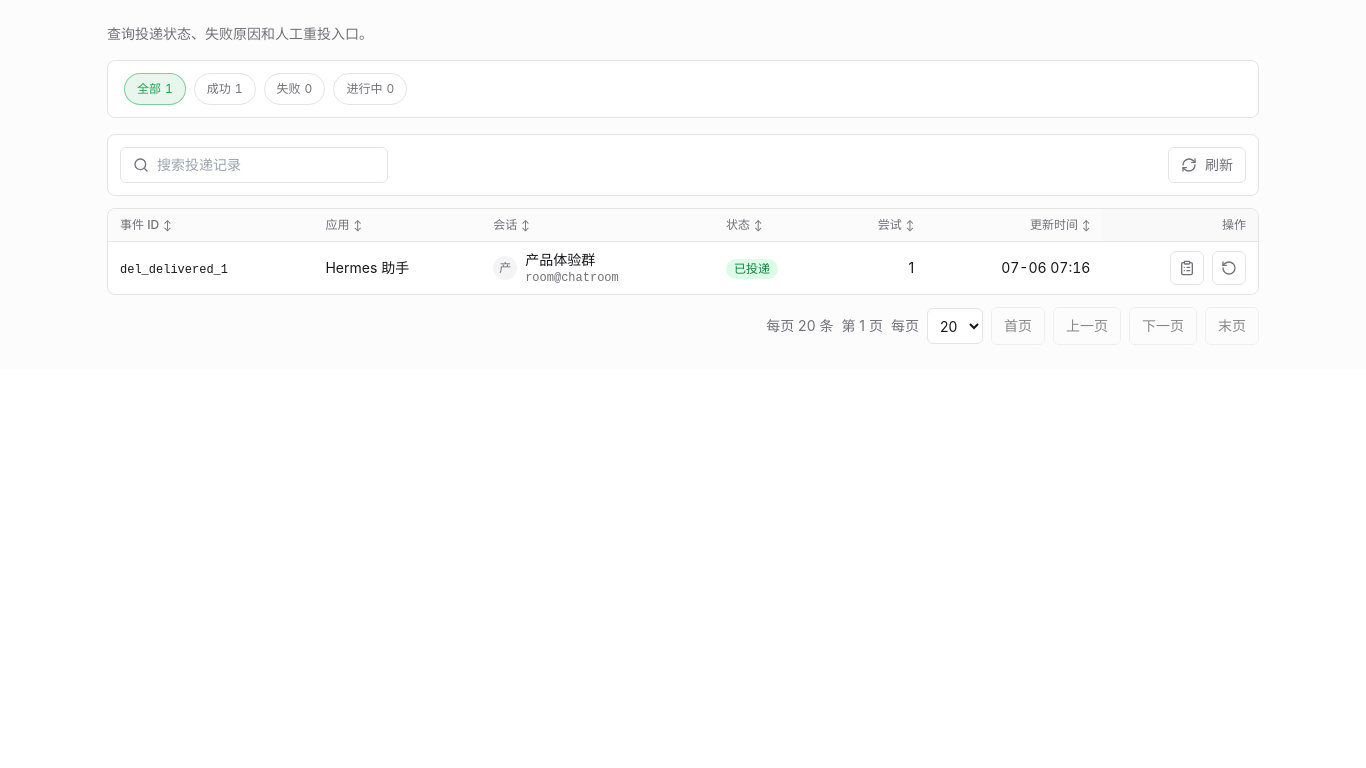
Test: AdminPage › 推送日志支持状态筛选、下一页请求并同步 URL
Expected: the text "del_delivered_1" is shown, [120,263,228,277]
Click the button "失败 0": (294, 89) [264,73,325,105]
(page scrolled)
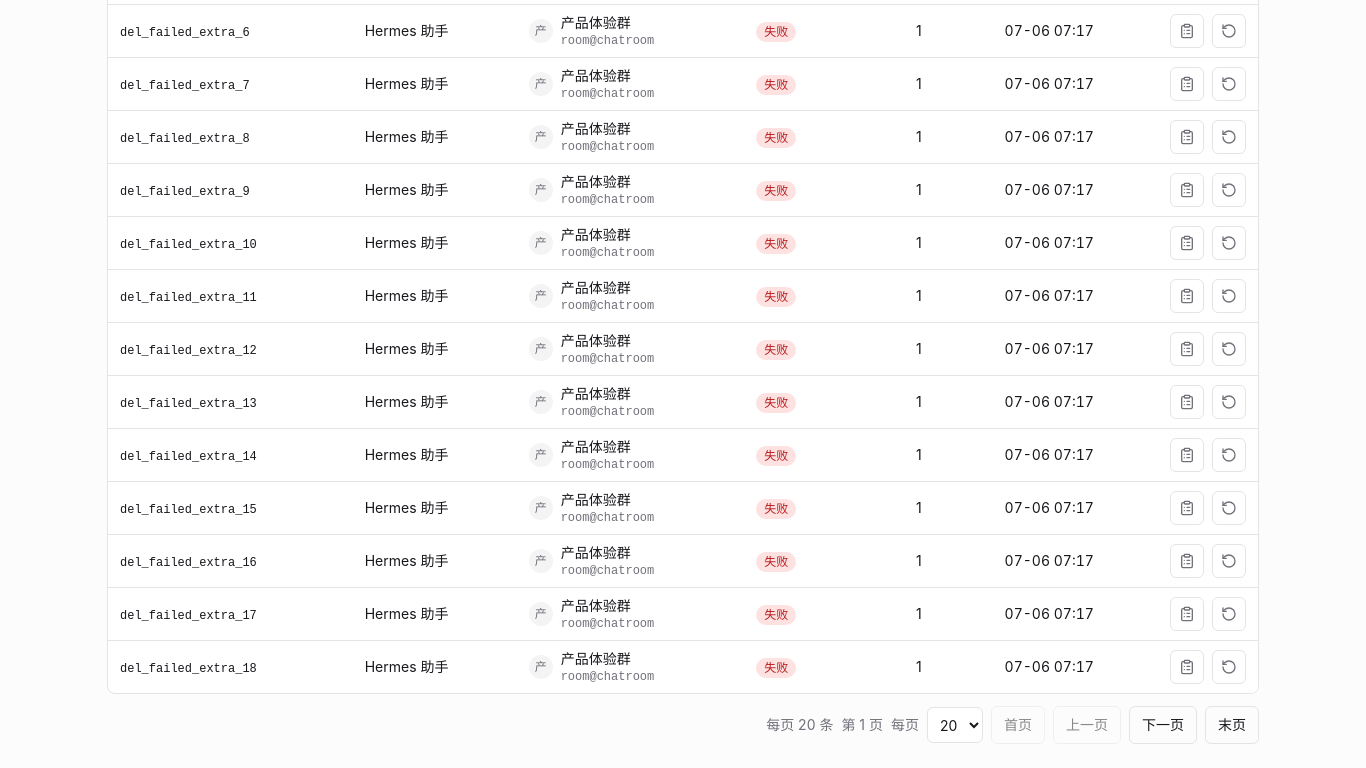
Click the button "下一页": (1163, 725) [1129,706,1197,744]
(page scrolled)
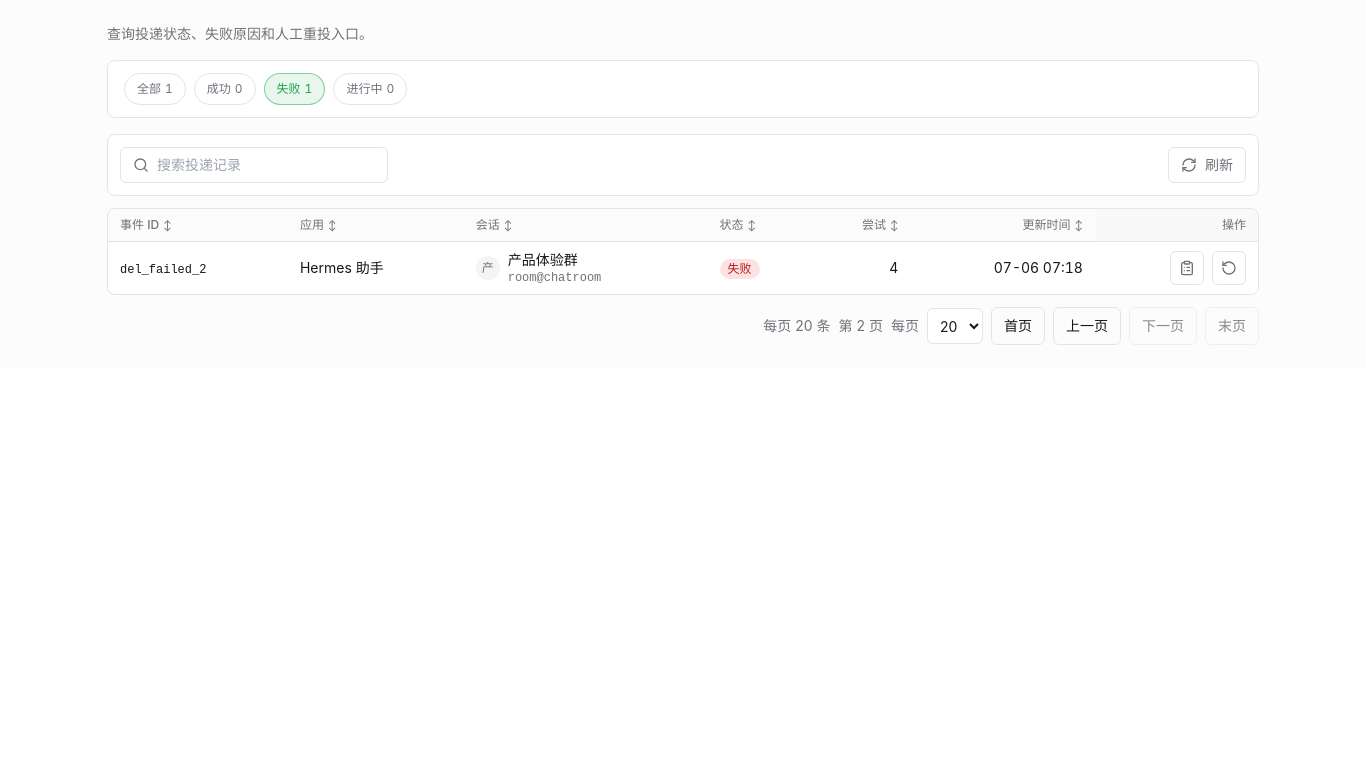
Expected: the text "del_failed_2" is shown, [120,263,206,277]
Select "50" in the dropdown named "每页数量": (955, 326) [927,308,983,344]
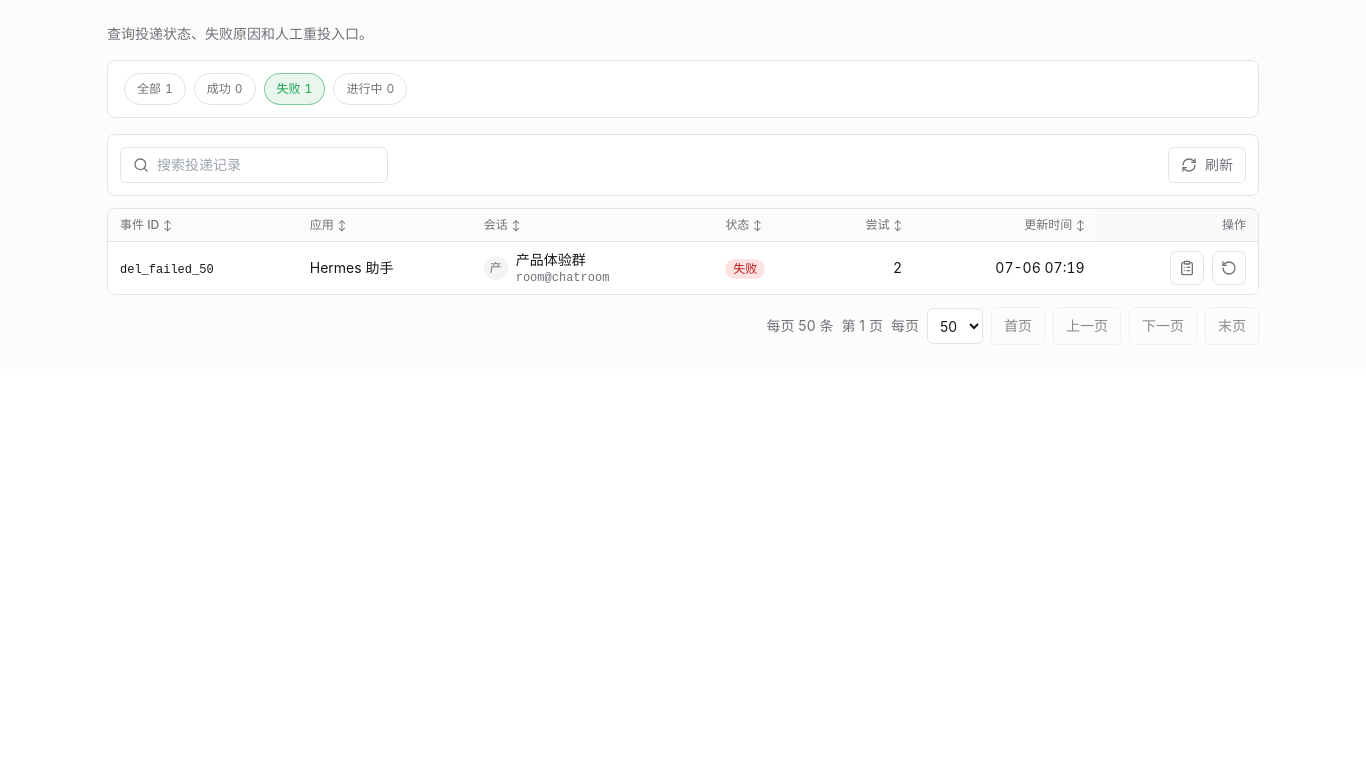
Expected: the text "del_failed_50" is shown, [120,263,214,277]
